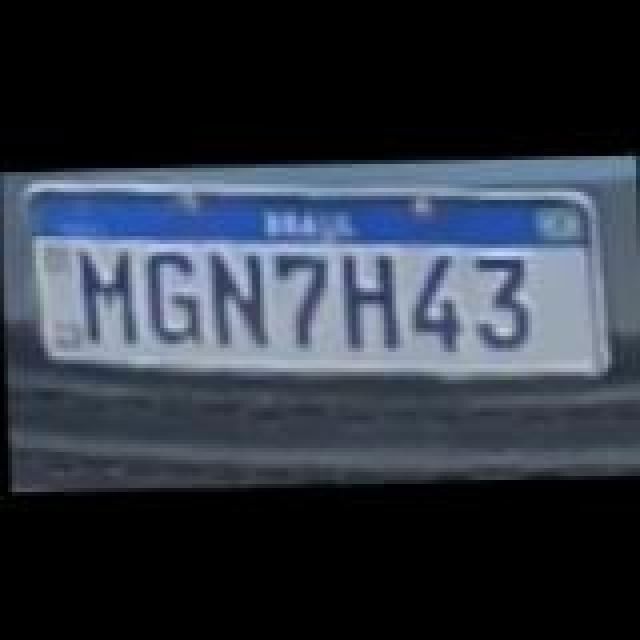3: (460, 250, 544, 350)
4: (396, 252, 472, 352)
7: (268, 246, 344, 350)
G: (134, 250, 214, 350)
H: (328, 246, 412, 354)
M: (64, 244, 148, 348)
N: (198, 244, 278, 348)
